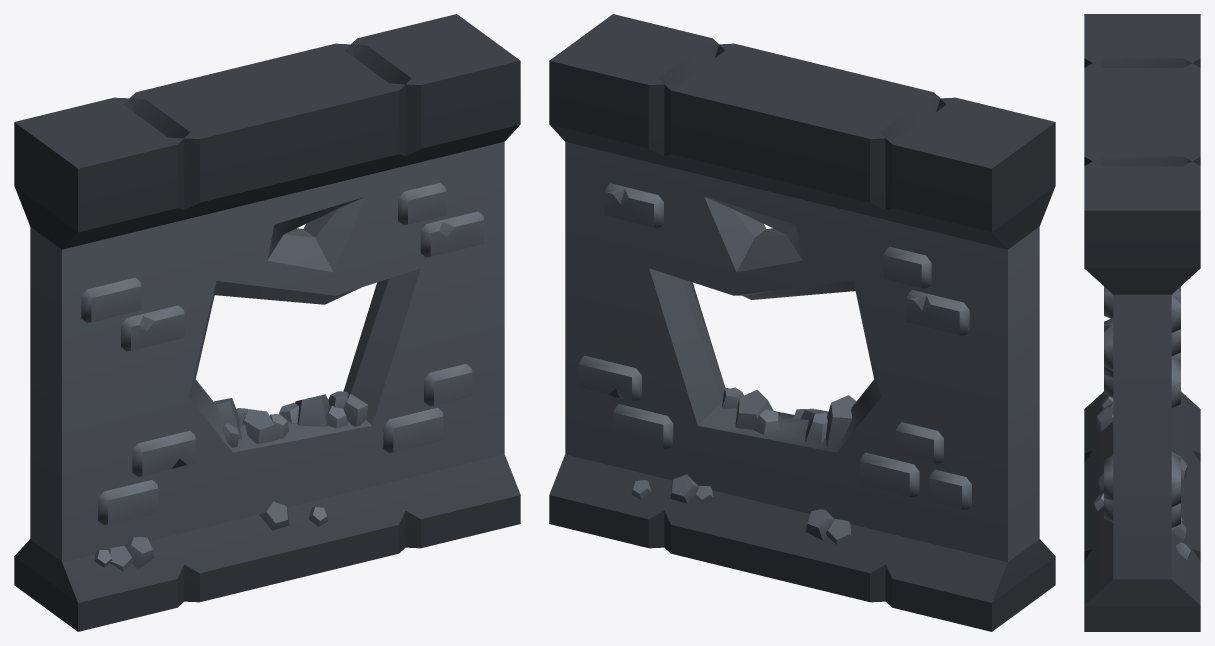
The model's file is wall_broken.glb.
3 views of the same model, side by side, from view 1: azimuth 30°, elevation 25°; view 2: azimuth 150°, elevation 25°; view 3: azimuth 270°, elevation 25° (orthographic). The views are drawn at different scales.
Visible parts, largest first — view 1: wall_broken; view 2: wall_broken; view 3: wall_broken.
Part boxes in pixels (x1,y1,x2,y2): wall_broken: [14, 14, 520, 631]; wall_broken: [549, 14, 1055, 631]; wall_broken: [1084, 14, 1200, 631].
Bounding box in the file's own units: 4 × 4 × 1.
Materials: 1 (1 with a texture image).
